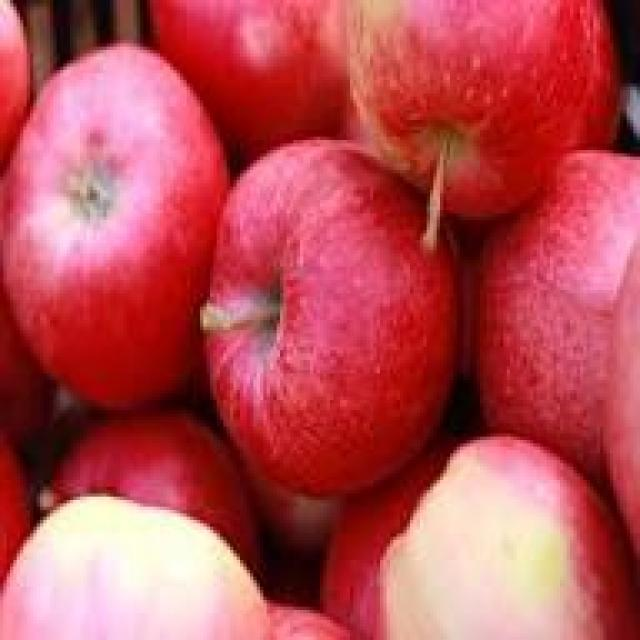apple: (210, 140, 457, 477), (3, 46, 227, 396), (370, 440, 640, 633), (336, 13, 586, 217), (477, 147, 630, 453), (7, 493, 266, 637)
